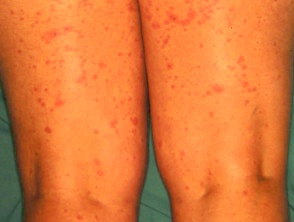SJS-TEN: (137, 0, 294, 222), (0, 0, 151, 222)
